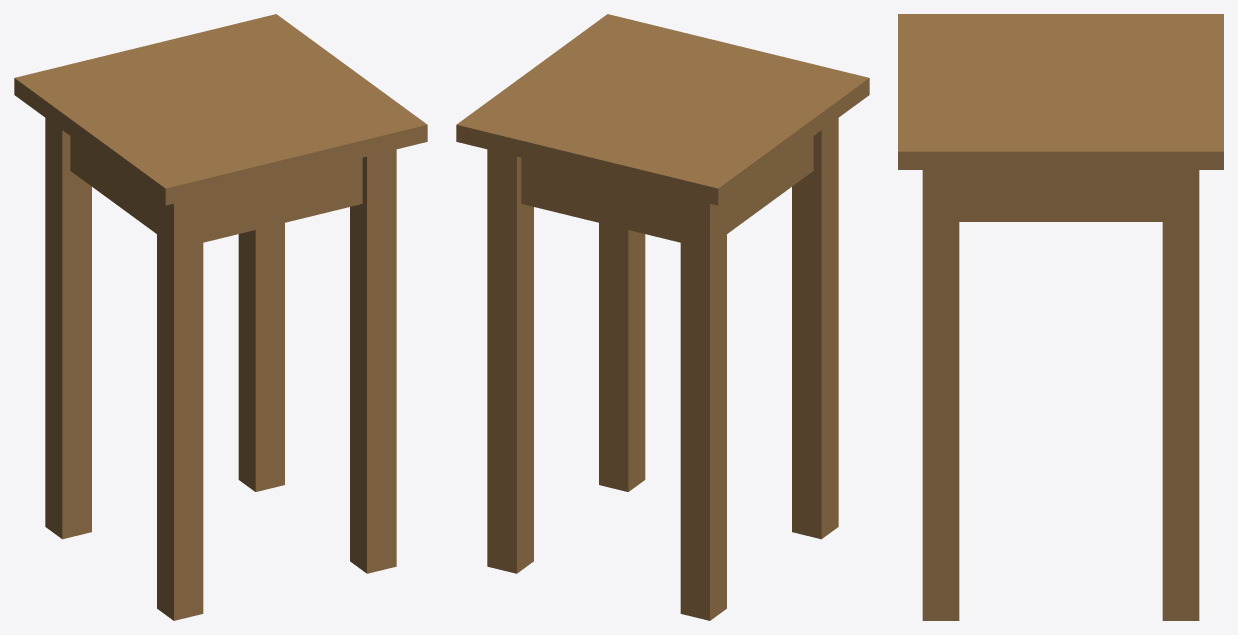
Rendered from HIN-STL-counter.glb.
3 views of the same model, side by side, from view 1: azimuth 30°, elevation 25°; view 2: azimuth 150°, elevation 25°; view 3: azimuth 270°, elevation 25° (orthographic). The views are drawn at different scales.
Parts seen in each view (by area): view 1: top:pbr, leg-fl:pbr, leg-fr:pbr, leg-bl:pbr, leg-br:pbr, apron-f:pbr, apron-l:pbr; view 2: top:pbr, leg-bl:pbr, leg-br:pbr, leg-fl:pbr, leg-fr:pbr, apron-b:pbr, apron-l:pbr; view 3: top:pbr, leg-fr:pbr, leg-br:pbr, apron-r:pbr.
Boxes of the visible parts, x1=… form: top:pbr: x1=14, y1=14, x2=427, y2=205; leg-fl:pbr: x1=157, y1=196, x2=203, y2=620; leg-fr:pbr: x1=350, y1=149, x2=396, y2=573; leg-bl:pbr: x1=45, y1=118, x2=91, y2=539; leg-br:pbr: x1=238, y1=223, x2=284, y2=491; apron-f:pbr: x1=203, y1=157, x2=362, y2=242; apron-l:pbr: x1=70, y1=136, x2=156, y2=233; top:pbr: x1=456, y1=14, x2=869, y2=205; leg-bl:pbr: x1=680, y1=196, x2=726, y2=620; leg-br:pbr: x1=487, y1=149, x2=533, y2=573; leg-fl:pbr: x1=792, y1=118, x2=838, y2=539; leg-fr:pbr: x1=599, y1=223, x2=645, y2=491; apron-b:pbr: x1=521, y1=157, x2=680, y2=242; apron-l:pbr: x1=727, y1=136, x2=813, y2=233; top:pbr: x1=898, y1=14, x2=1223, y2=169; leg-fr:pbr: x1=922, y1=170, x2=959, y2=620; leg-br:pbr: x1=1162, y1=170, x2=1199, y2=620; apron-r:pbr: x1=959, y1=170, x2=1162, y2=221.
Bounding box in the file's own units: 0.4 × 0.65 × 0.4.
